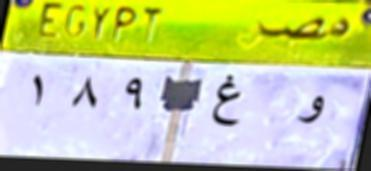1: (28, 70, 49, 116)
8: (68, 70, 100, 117)
9: (118, 72, 150, 116)
ghayn: (209, 70, 246, 138)
waw: (296, 92, 327, 134)
